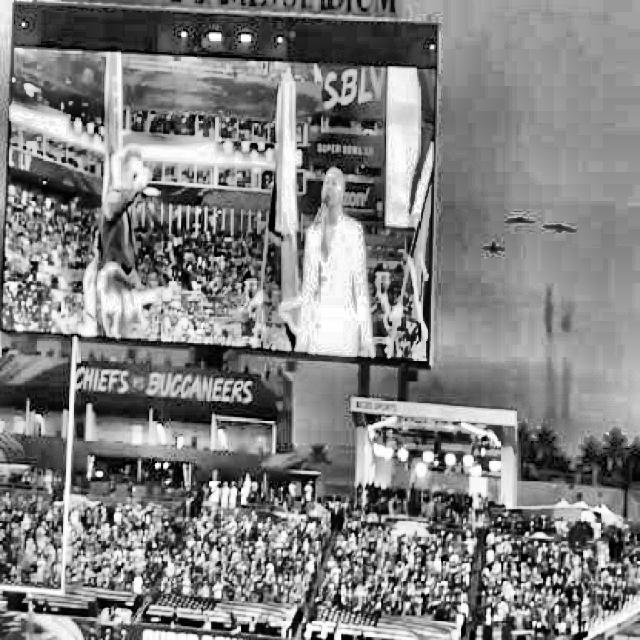B1: (483, 241, 505, 253)
B2: (506, 217, 534, 226)
B52: (542, 224, 576, 233)
